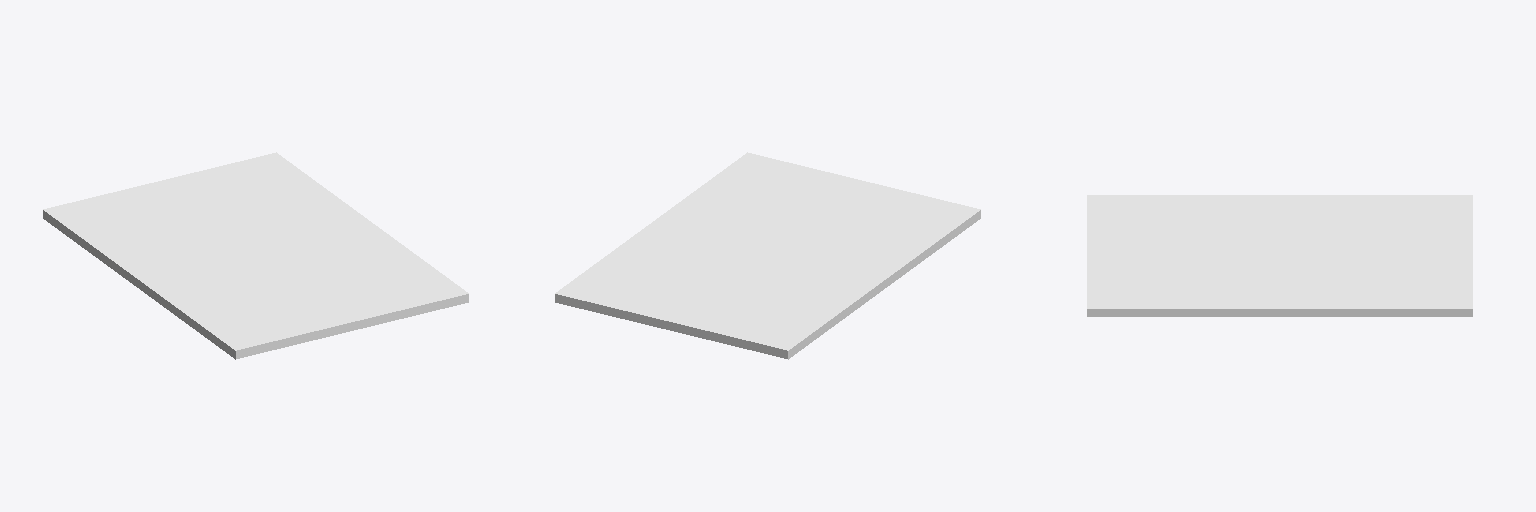
The model's file is magazine2.obj.
3 views of the same model, side by side, from view 1: azimuth 30°, elevation 25°; view 2: azimuth 150°, elevation 25°; view 3: azimuth 270°, elevation 25° (orthographic).
Parts seen in each view (by area): view 1: object 1; view 2: object 1; view 3: object 1.
Boxes of the visible parts, x1,y1,x2,y2 form: object 1: [43, 152, 468, 359]; object 1: [555, 152, 980, 359]; object 1: [1087, 195, 1472, 316].
Size of the model in its own units: 2.8 by 0.1 by 4.